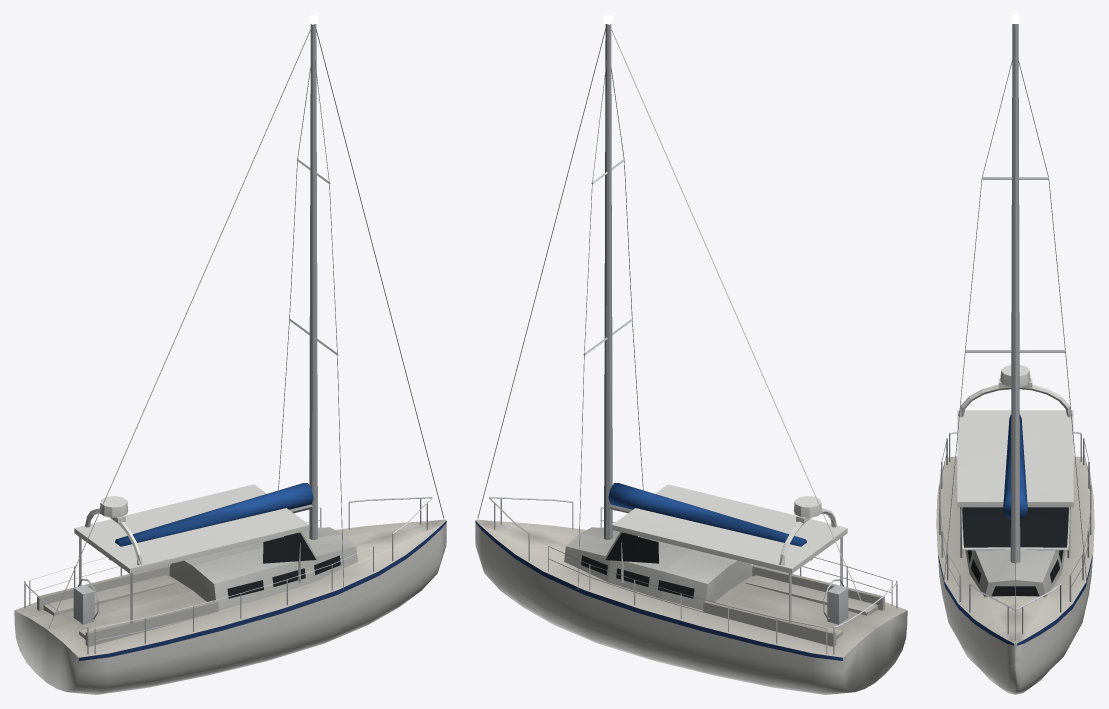
The model's file is boats.glb.
3 renders of one model, left to right at view 1: azimuth 30°, elevation 25°; view 2: azimuth 150°, elevation 25°; view 3: azimuth 270°, elevation 25°, orthographic. The views are drawn at different scales.
Visible parts, largest first — view 1: boat_lod0; view 2: boat_lod0; view 3: boat_lod0.
Part boxes in pixels (x1,y1,x2,y2): boat_lod0: (14, 14, 446, 694); boat_lod0: (475, 14, 907, 694); boat_lod0: (936, 14, 1094, 694).
Size of what is drawn, in the model's own units: 10.1 by 14.96 by 3.32.
